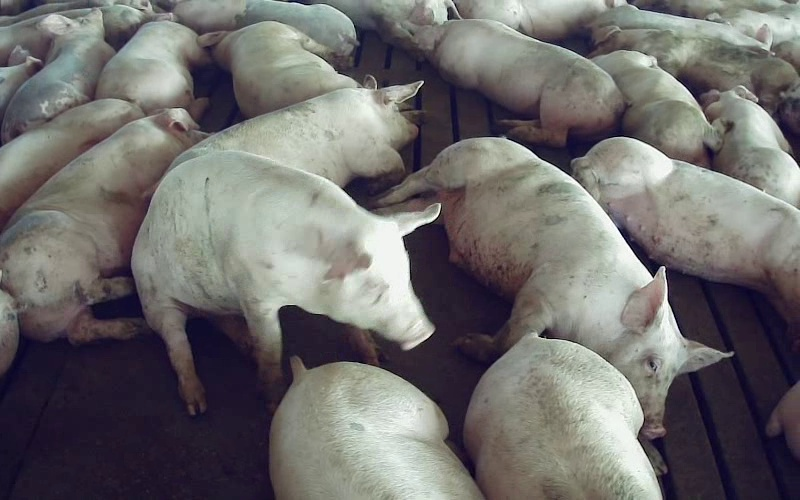pig: (377, 141, 727, 438), (572, 137, 799, 348), (0, 109, 205, 342), (464, 336, 661, 499), (270, 357, 482, 499), (414, 19, 623, 146), (171, 82, 422, 186), (0, 99, 143, 229), (591, 26, 797, 113), (200, 21, 359, 117), (592, 50, 720, 167), (2, 9, 114, 142), (700, 85, 799, 208), (95, 21, 211, 120)
